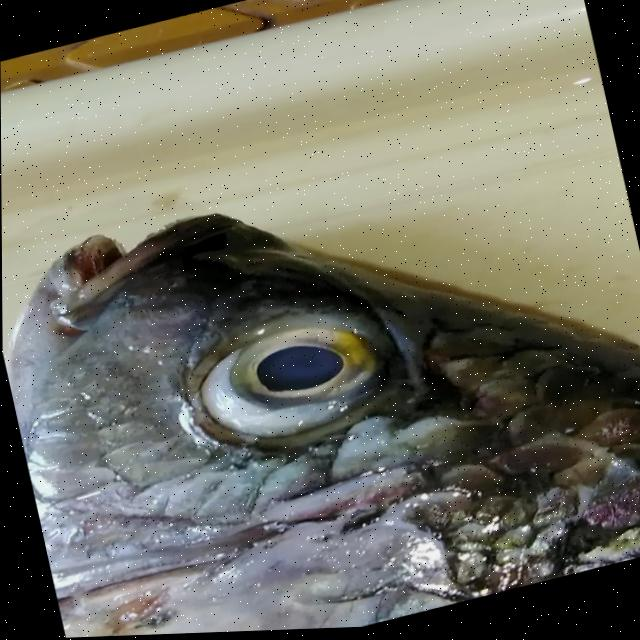Fresh: (147, 292, 435, 490)
